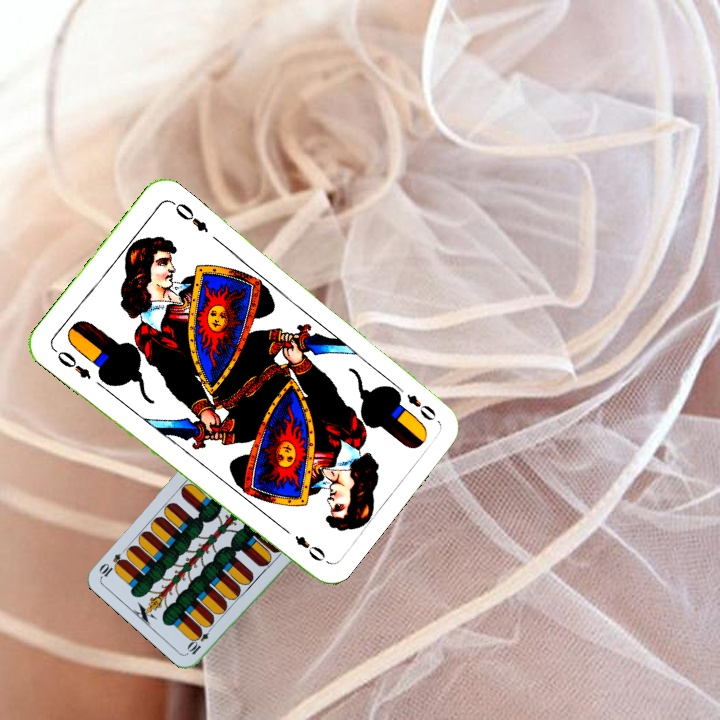E10: (184, 621, 216, 657)
EO: (390, 380, 439, 424), (49, 344, 94, 382)
